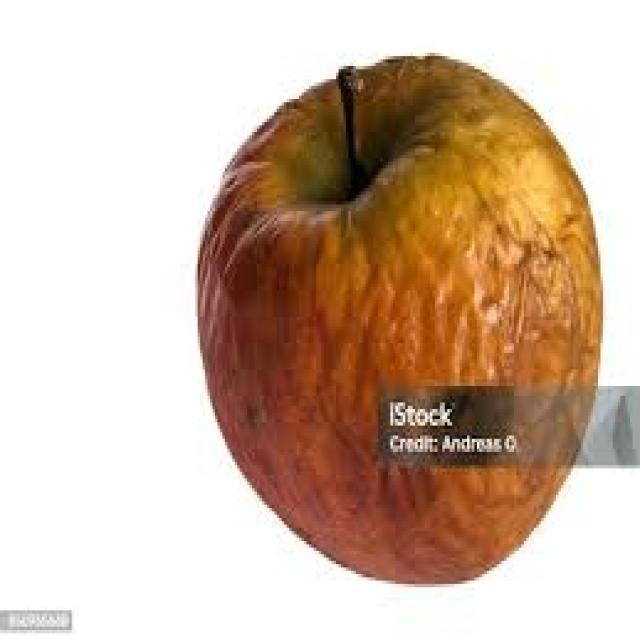overripe: (189, 48, 615, 590)
